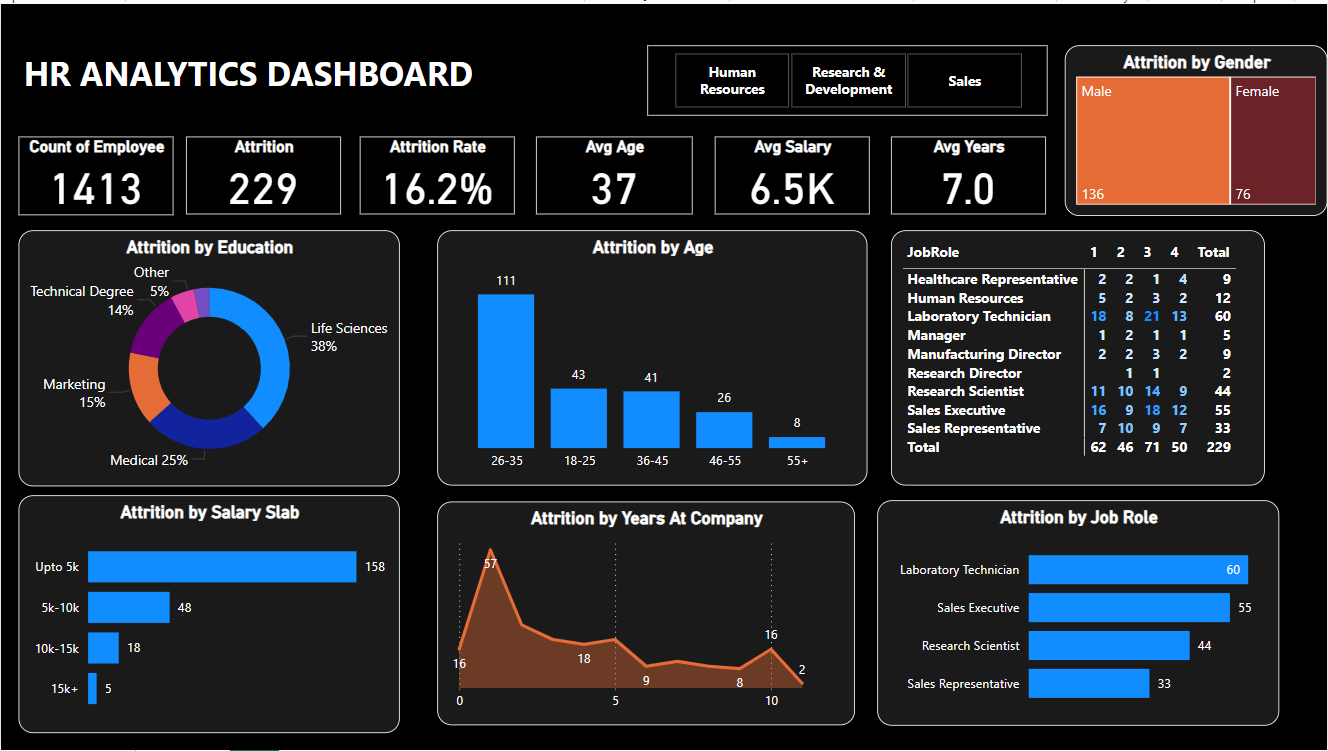

Layout of this report page (visuals, bound fields, positions):
{"tool":"powerbi","page":{"name":"Page 1","canvas":[1280,720],"ordinal":0},"visuals":[{"type":"card","title":"Count of Employee","fields":{"Values":["CountNonNull(HR_Analytics.EmpID)"]},"box":[16.5,128.4,150,75.6],"z":0},{"type":"card","title":"Attrition","fields":{"Values":["CountNonNull(HR_Analytics.AttritionCount)"]},"box":[178.2,128.3,149.5,75.5],"z":1000},{"type":"card","title":"Attrition Rate","fields":{"Values":["HR_Analytics.AttritionRate"]},"box":[345.7,128.3,149.5,75.5],"z":2000},{"type":"card","title":"Avg Age ","fields":{"Values":["Avg(HR_Analytics.Age)"]},"box":[516.4,128.3,151,75.5],"z":3000},{"type":"card","title":"Avg Salary","fields":{"Values":["Avg(HR_Analytics.MonthlyIncome)"]},"box":[688.5,128.3,149.5,75.5],"z":4000},{"type":"card","title":"Avg Years","fields":{"Values":["Avg(HR_Analytics.YearsAtCompany)"]},"box":[859.1,128.3,149.5,75.5],"z":5000},{"type":"donutChart","title":"Attrition by Education ","fields":{"Category":["HR_Analytics.EducationField"],"Y":["Sum(HR_Analytics.AttritionCount)"]},"box":[16.5,218.6,367.9,247],"z":6000},{"type":"columnChart","title":"Attrition by Age","fields":{"Y":["Sum(HR_Analytics.AttritionCount)"],"Category":["HR_Analytics.AgeGroup"]},"box":[421.2,218.9,415.2,246.1],"z":7000},{"type":"pivotTable","fields":{"Rows":["HR_Analytics.JobRole"],"Columns":["HR_Analytics.JobSatisfaction"],"Values":["Sum(HR_Analytics.AttritionCount)"]},"box":[859.1,218.9,360.8,246.1],"z":8000},{"type":"barChart","title":"Attrition by Salary Slab","fields":{"Category":["HR_Analytics.SalarySlab"],"Y":["Sum(HR_Analytics.AttritionCount)"]},"box":[16.5,474.4,367.9,229.3],"z":9000},{"type":"barChart","title":"Attrition by Job Role","fields":{"Category":["HR_Analytics.JobRole"],"Y":["Sum(HR_Analytics.AttritionCount)"]},"box":[845.5,478.6,388,217.4],"z":10000},{"type":"areaChart","title":"Attrition by Years At Company","fields":{"Category":["HR_Analytics.YearsAtCompany"],"Y":["Sum(HR_Analytics.AttritionCount)"]},"box":[421.2,480.1,403.1,215.9],"z":11000},{"type":"treemap","title":"Attrition by Gender","fields":{"Group":["HR_Analytics.Gender"],"Values":["Sum(HR_Analytics.AttritionCount)"]},"box":[1026.7,39.3,253.6,164.6],"z":12000},{"type":"slicer","fields":{"Values":["HR_Analytics.Department"]},"box":[623.5,39.3,386.5,67.9],"z":13000},{"type":"textbox","box":[16.6,39.3,466.5,55.9],"z":15000}]}

Visuals, with their boxes in screenshot pixels (x1, y1, x2, y2), scaled from the page's 1280x720 canvas onto the 1328x751 screenshot:
"Count of Employee" card: 17,134,173,213
"Attrition" card: 185,134,340,213
"Attrition Rate" card: 359,134,514,213
"Avg Age " card: 536,134,692,213
"Avg Salary" card: 714,134,869,213
"Avg Years" card: 891,134,1046,213
"Attrition by Education " donutChart: 17,228,399,486
"Attrition by Age" columnChart: 437,228,868,485
pivotTable - HR_Analytics.JobRole x HR_Analytics.JobSatisfaction: 891,228,1266,485
"Attrition by Salary Slab" barChart: 17,495,399,734
"Attrition by Job Role" barChart: 877,499,1280,726
"Attrition by Years At Company" areaChart: 437,501,855,726
"Attrition by Gender" treemap: 1065,41,1327,213
slicer - HR_Analytics.Department: 647,41,1048,112
textbox: 17,41,501,99
